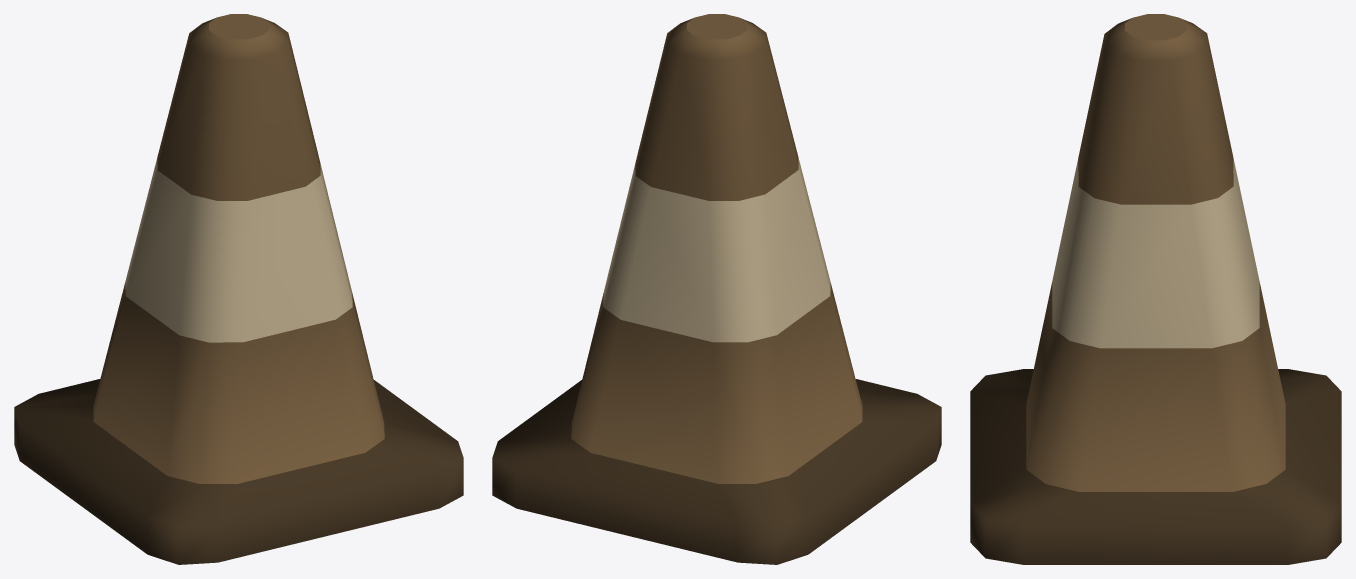
File: ChocolateTrafficCone_MDL.fbx
3 renders of one model, left to right at view 1: azimuth 30°, elevation 25°; view 2: azimuth 150°, elevation 25°; view 3: azimuth 270°, elevation 25°, orthographic. The views are drawn at different scales.
Visible parts, largest first — view 1: traffic_cone_GEO; view 2: traffic_cone_GEO; view 3: traffic_cone_GEO.
Boxes of the visible parts, left/top/right/bottom form: traffic_cone_GEO: left=14, top=14, right=463, bottom=564; traffic_cone_GEO: left=492, top=14, right=941, bottom=564; traffic_cone_GEO: left=970, top=14, right=1341, bottom=564.
Bounding box in the file's own units: 53.06 × 72.37 × 53.06.
